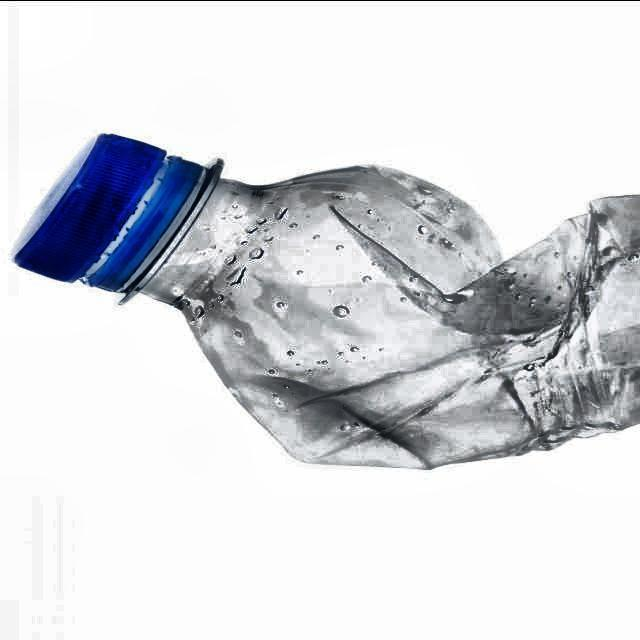plastic: (24, 136, 640, 473)
